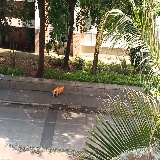fire: (54, 85, 64, 94)
